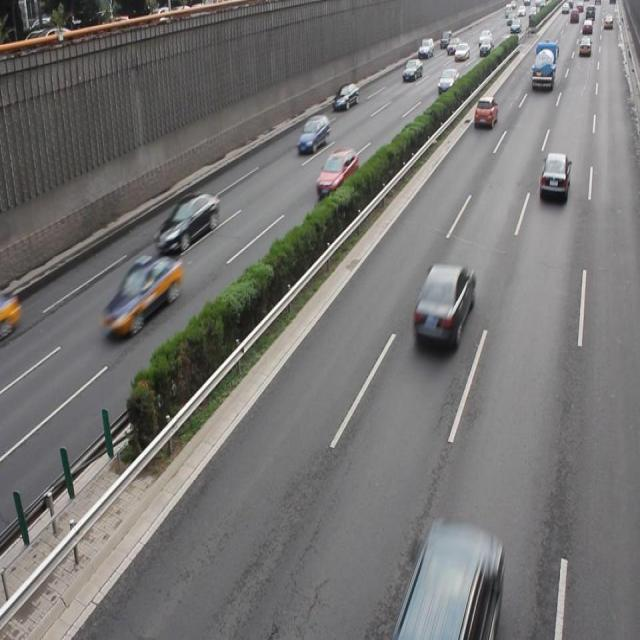car: (102, 254, 183, 340), (412, 260, 474, 348), (154, 192, 221, 254), (316, 147, 358, 198), (538, 151, 568, 202), (296, 113, 329, 154), (473, 95, 496, 129)
